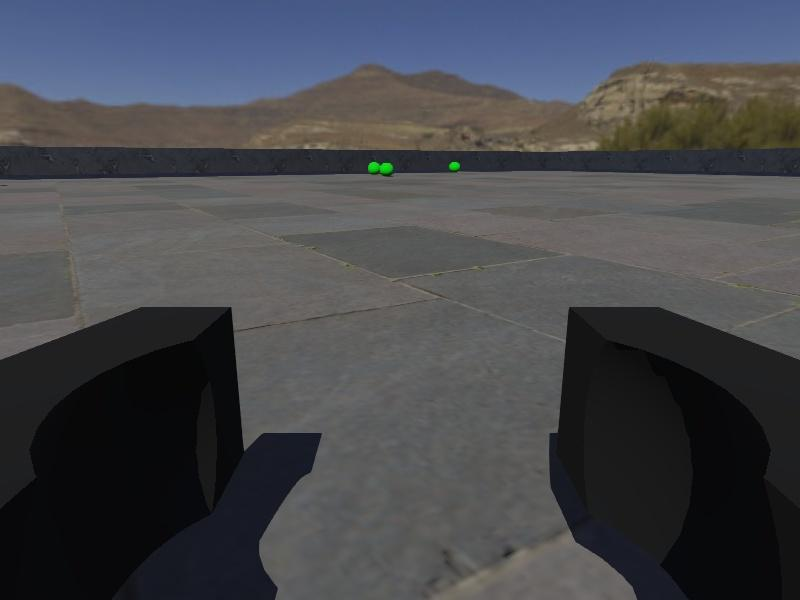green ball: (367, 161, 381, 175), (380, 162, 394, 175), (448, 161, 459, 172)
